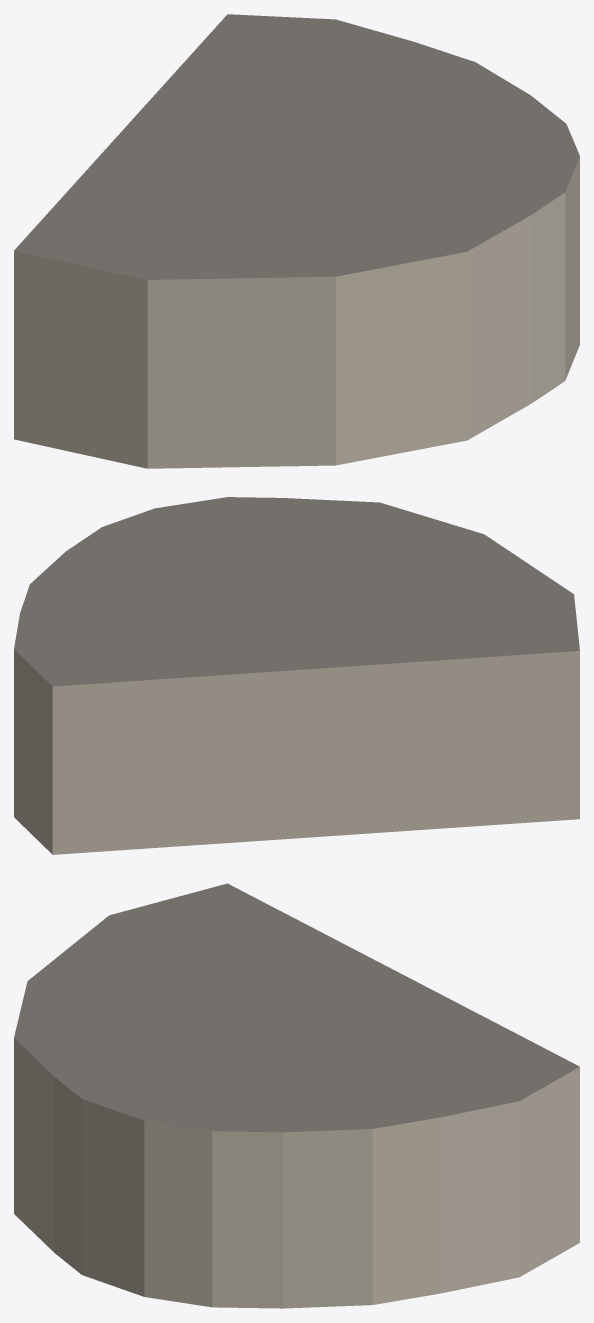
The picture shows the model from 3 angles, top to bottom: view 1: azimuth 30°, elevation 25°; view 2: azimuth 150°, elevation 25°; view 3: azimuth 270°, elevation 25°; orthographic projection. The views are drawn at different scales.
Parts seen in each view (by area): view 1: HP-w479994215; view 2: HP-w479994215; view 3: HP-w479994215.
Boxes of the visible parts, x1,y1,x2,y2 form: HP-w479994215: [14, 14, 579, 468]; HP-w479994215: [14, 497, 579, 854]; HP-w479994215: [14, 883, 579, 1308].
Bounding box in the file's own units: 54.56 × 18 × 52.42.
